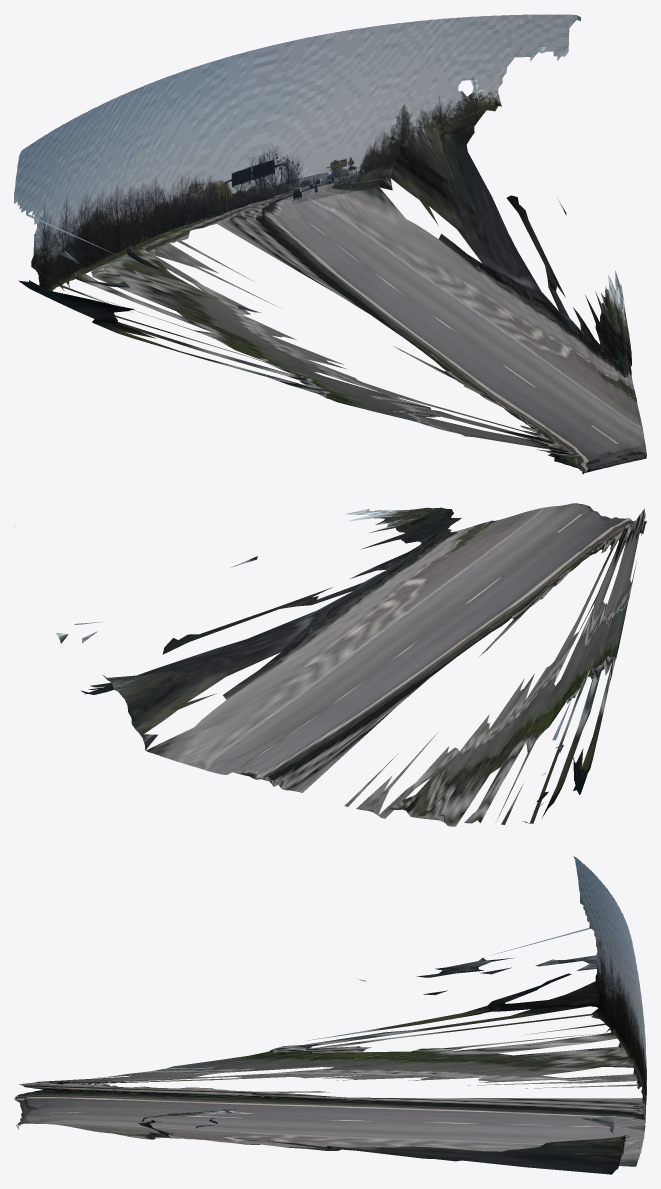
3 views of the same model, one above another, from view 1: azimuth 30°, elevation 25°; view 2: azimuth 150°, elevation 25°; view 3: azimuth 270°, elevation 25° (orthographic). The views are drawn at different scales.
Visible parts, largest first — view 1: defaultobject; view 2: defaultobject; view 3: defaultobject.
Part boxes in pixels (<box>): defaultobject: <box>14,14,646,474</box>; defaultobject: <box>14,503,646,826</box>; defaultobject: <box>14,856,646,1174</box>.
Bounding box in the file's own units: 40.69 × 12.47 × 44.62.
1 material, 1 textured.
